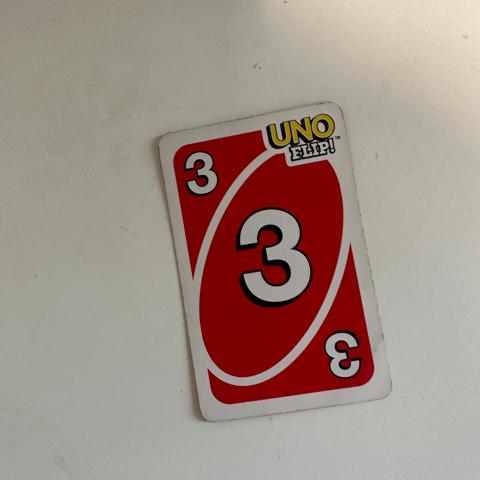9_red: (232, 205, 319, 311), (319, 324, 365, 377), (177, 145, 222, 198)
